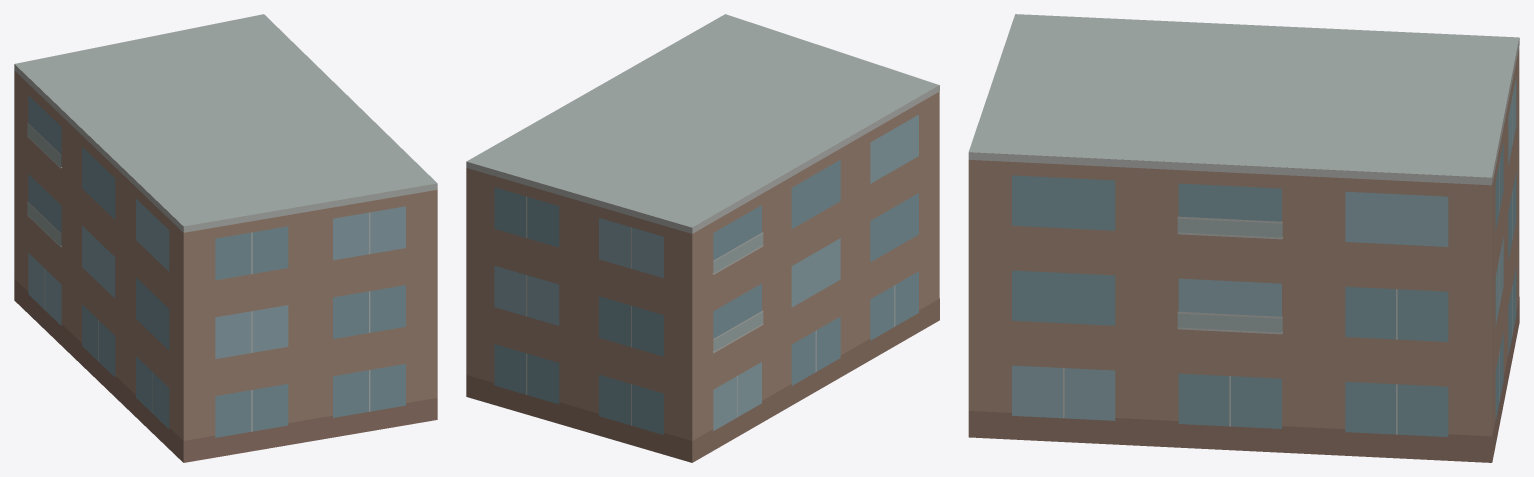
File: survey-upis-32690516.glb
The picture shows the model from 3 angles, left to right: view 1: azimuth 30°, elevation 25°; view 2: azimuth 150°, elevation 25°; view 3: azimuth 270°, elevation 25°; orthographic projection. The views are drawn at different scales.
Visible parts, largest first — view 1: survey-upis-32690516.tmp; view 2: survey-upis-32690516.tmp; view 3: survey-upis-32690516.tmp.
Boxes of the visible parts, x1=… form: survey-upis-32690516.tmp: x1=14, y1=14, x2=437, y2=462; survey-upis-32690516.tmp: x1=466, y1=14, x2=939, y2=462; survey-upis-32690516.tmp: x1=968, y1=14, x2=1519, y2=462.
Size of the model in its own units: 11.28 by 9.15 by 16.03.
